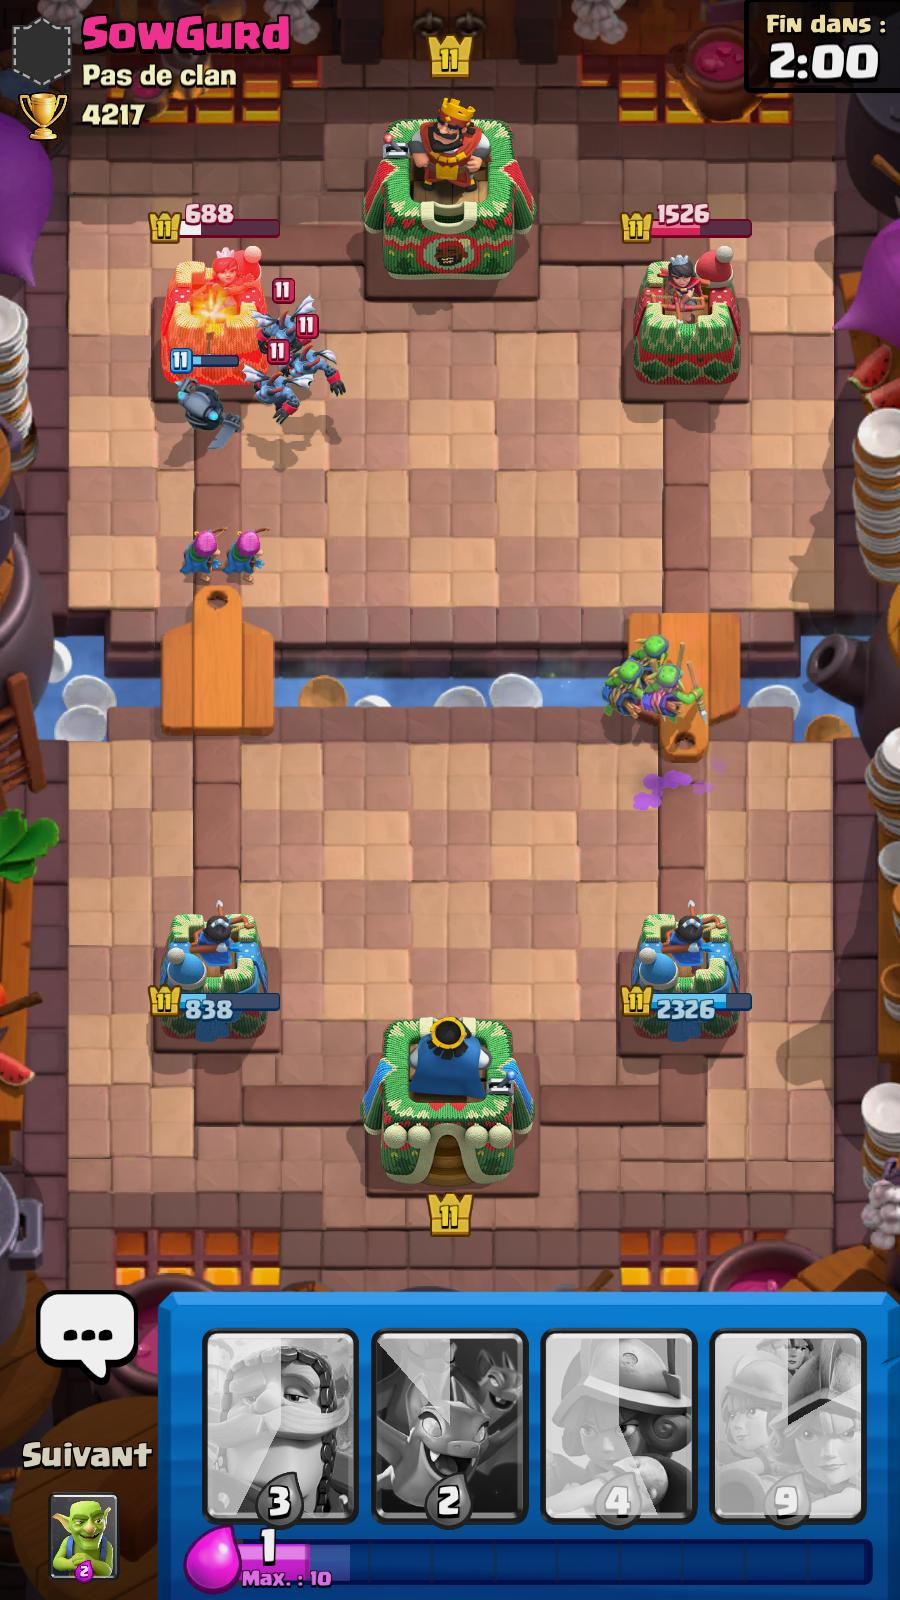archere: (223, 524, 271, 593), (180, 524, 230, 591)
gargouille: (284, 335, 356, 400), (246, 340, 301, 424), (253, 277, 314, 344)
gobelin_lances: (648, 660, 708, 735), (603, 658, 653, 724), (630, 633, 670, 681)
mini_PEKKA: (169, 348, 244, 445)
